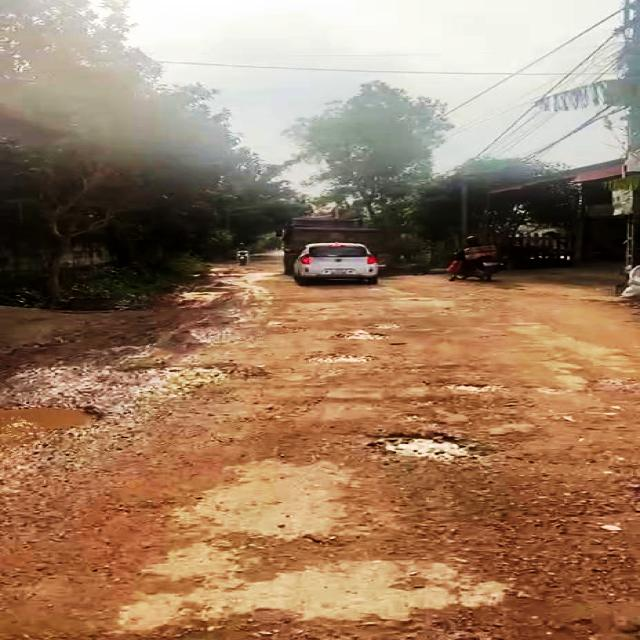pothole: (370, 429, 474, 464), (0, 400, 101, 436), (138, 366, 245, 396), (304, 352, 376, 366), (444, 381, 499, 394), (328, 330, 388, 340)
